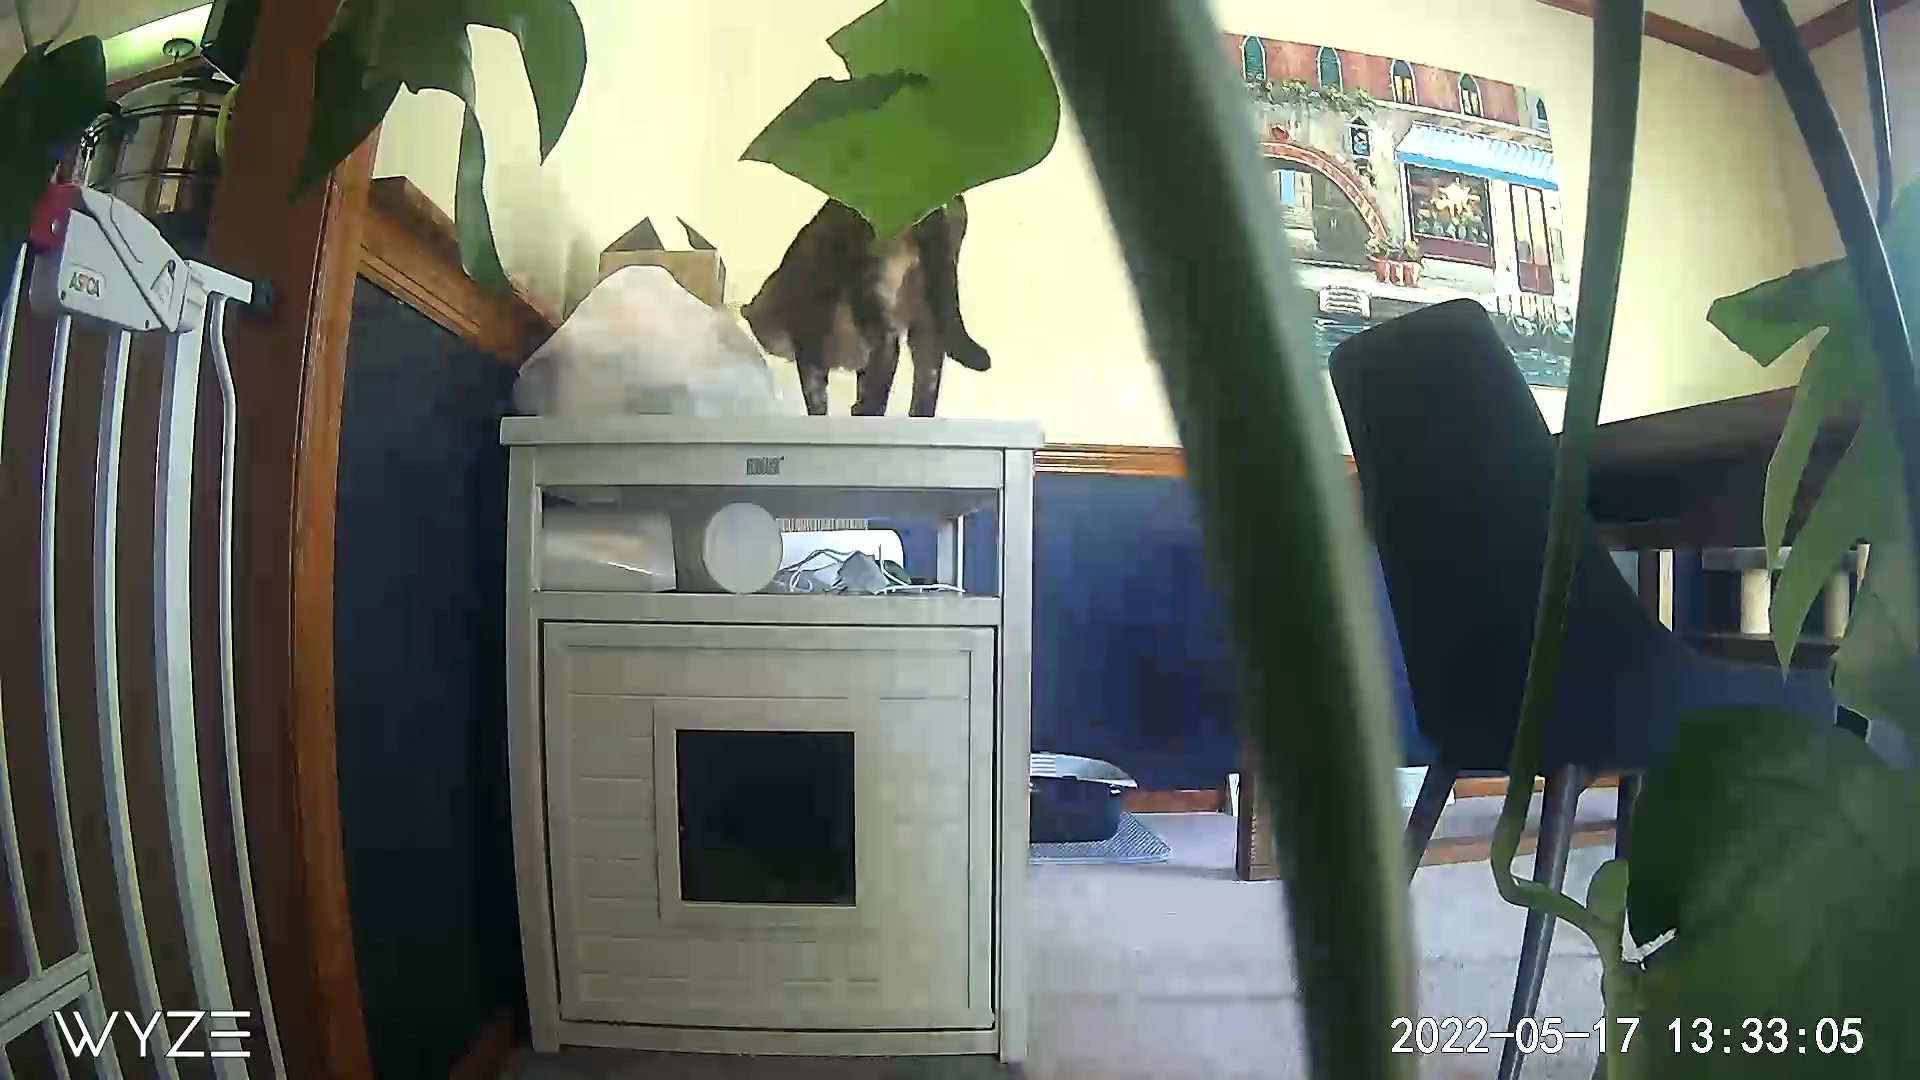sparky: (717, 227, 1036, 430)
